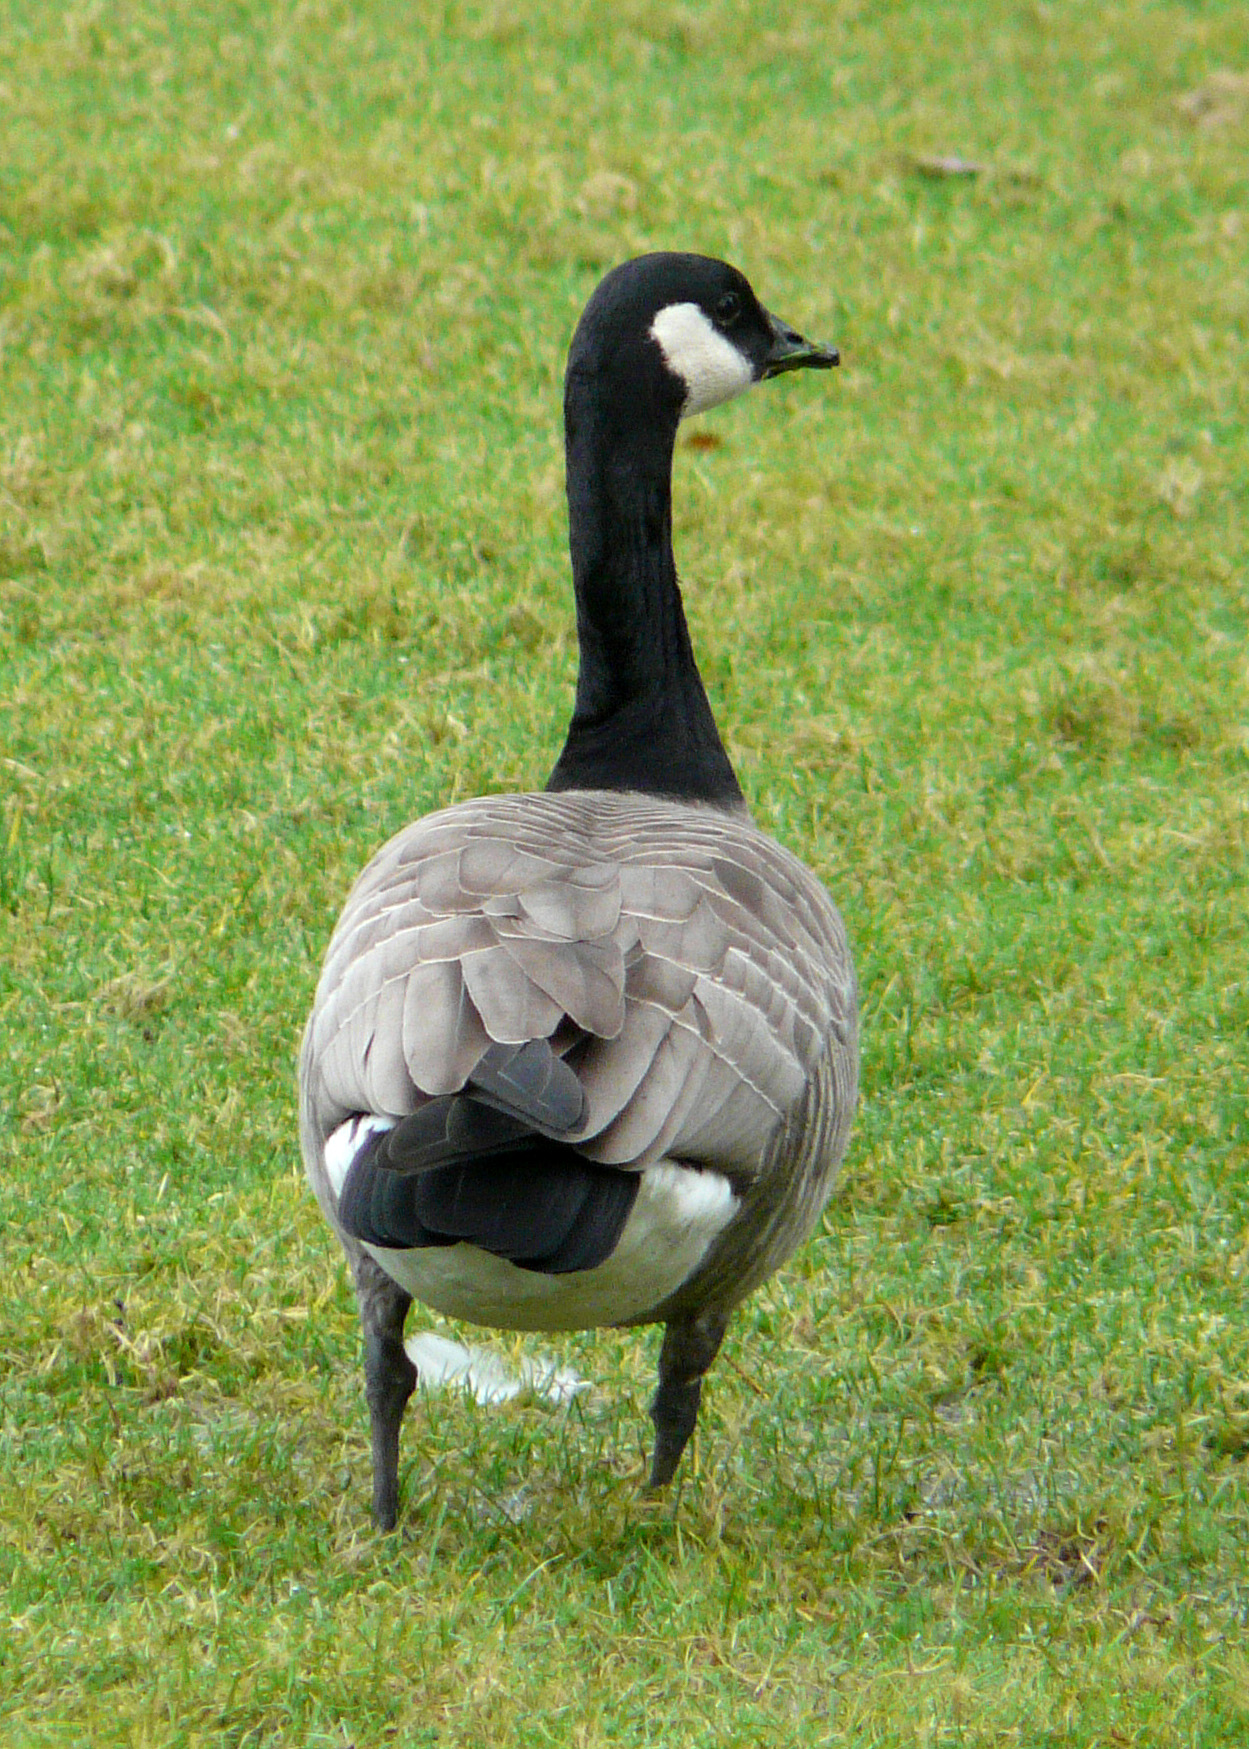goose: (287, 247, 860, 1561)
